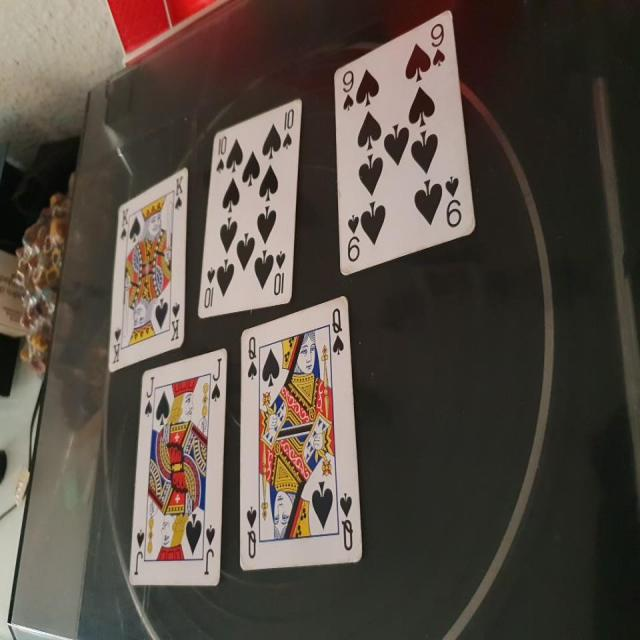10 Spades: (194, 90, 303, 316)
9 Spades: (326, 5, 484, 280)
J Spades: (127, 344, 230, 600)
K Spades: (107, 167, 188, 371)
Q Spades: (230, 295, 375, 576)
